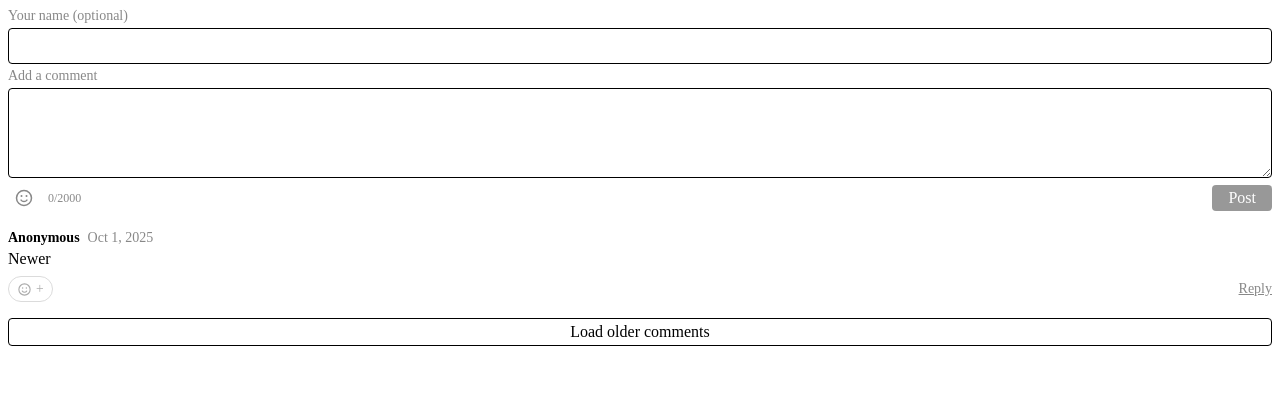
Test: CommentThread › loads older comments on demand
Click the button "Load older comments". click: {"x": 640, "y": 332}
box: 8,318 -> 1272,346
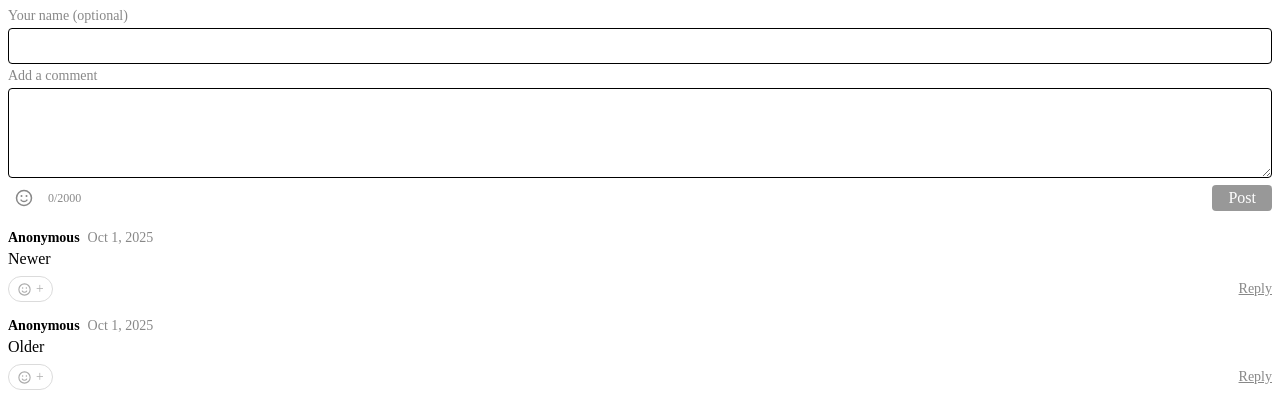
Expected: the text "Older" is shown, 8,338 -> 44,355
Now the button "Load older comments" is gone
